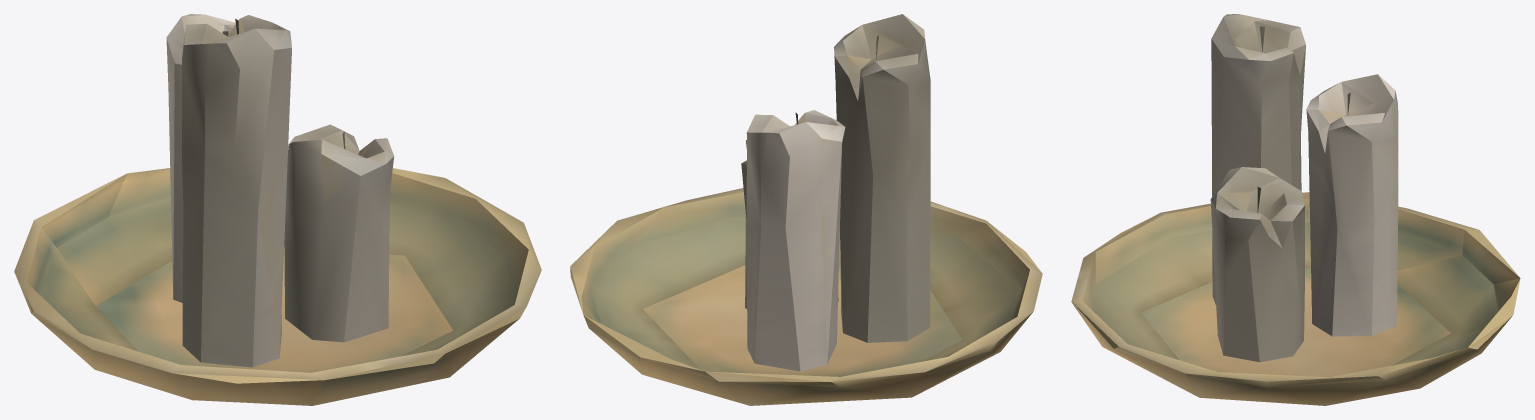
Rendered from candlestick-branch-b.lod1.glb.
3 views of the same model, side by side, from view 1: azimuth 30°, elevation 25°; view 2: azimuth 150°, elevation 25°; view 3: azimuth 270°, elevation 25° (orthographic). The views are drawn at different scales.
Parts seen in each view (by area): view 1: candlestick-branch-b; view 2: candlestick-branch-b; view 3: candlestick-branch-b.
Part boxes in pixels (x1=…): candlestick-branch-b: x1=14, y1=14, x2=541, y2=405; candlestick-branch-b: x1=570, y1=14, x2=1042, y2=405; candlestick-branch-b: x1=1071, y1=14, x2=1520, y2=405.
Bounding box in the file's own units: 0.1059 × 0.0781 × 0.1055.
1 material, 1 textured.
